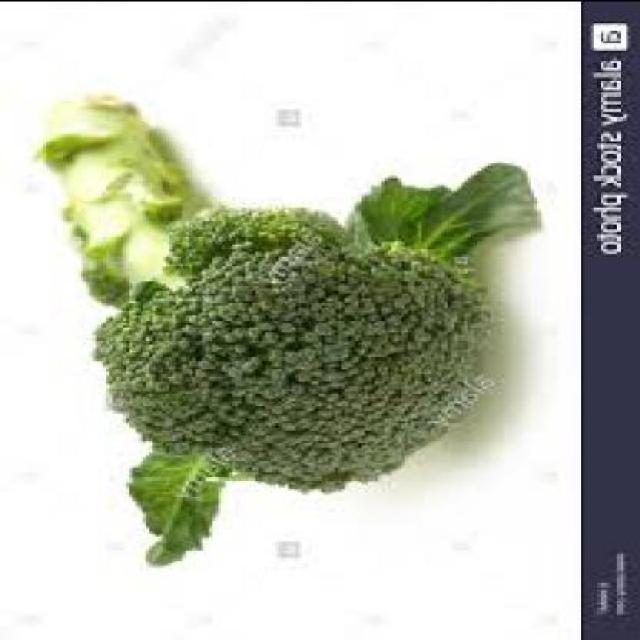BIODEGRADABLE: (33, 90, 538, 562)
